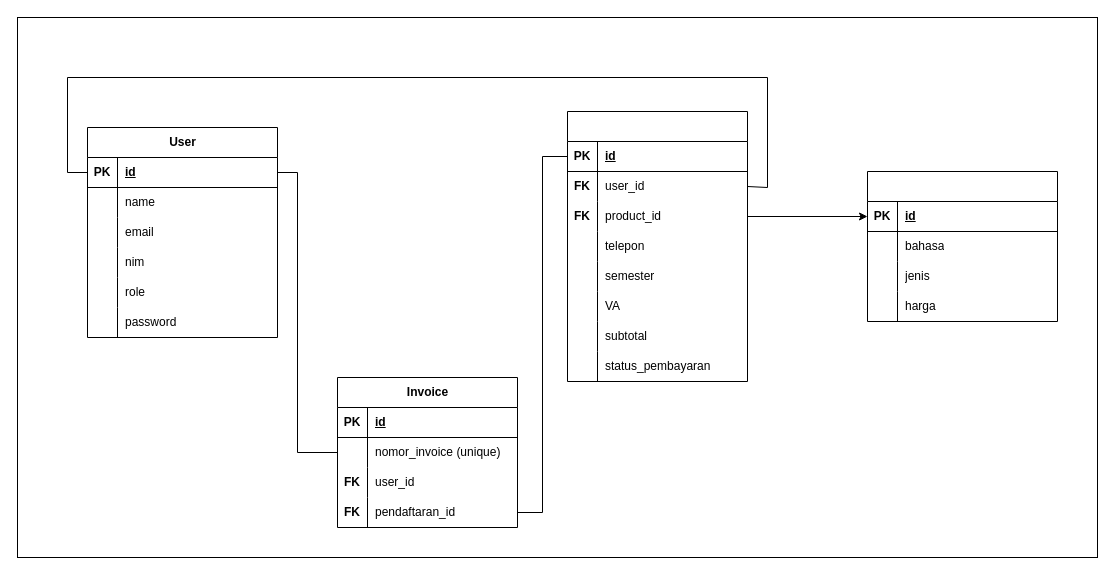
Image size: 1115x575. Some labels were removed from this diagram. The box of each missing label's shape, as (x1, y1, x2, y2) in pixels:
Pendaftaran: (566, 110, 748, 382)
Product: (866, 170, 1058, 322)
